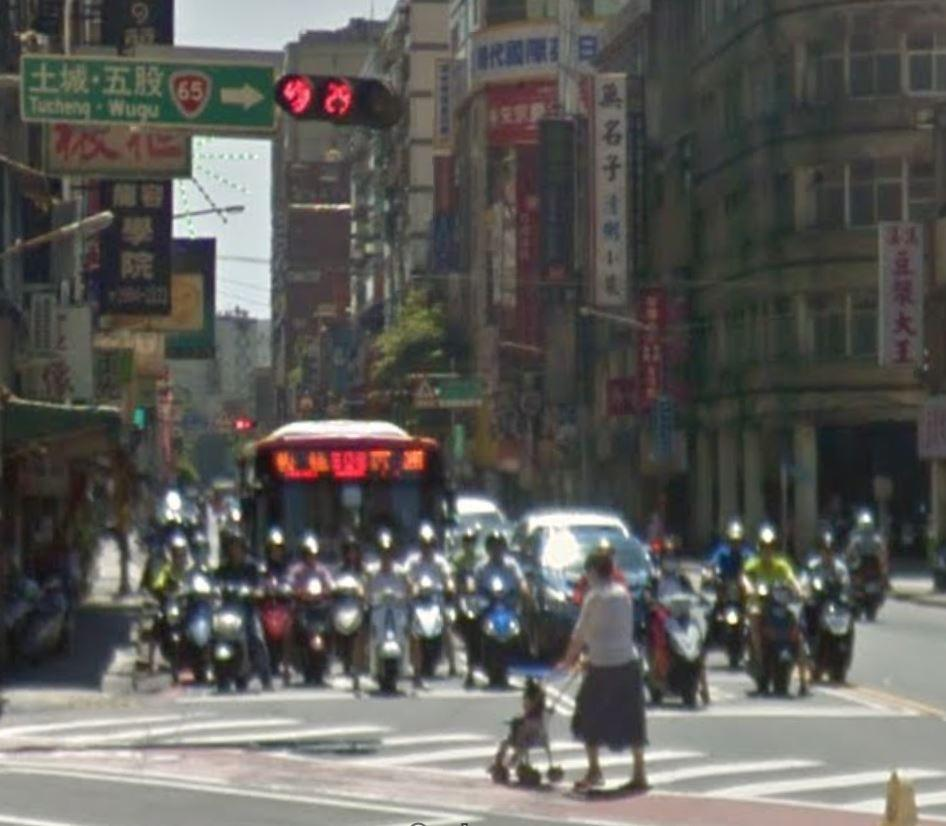red_traffic_light: (271, 69, 400, 127)
